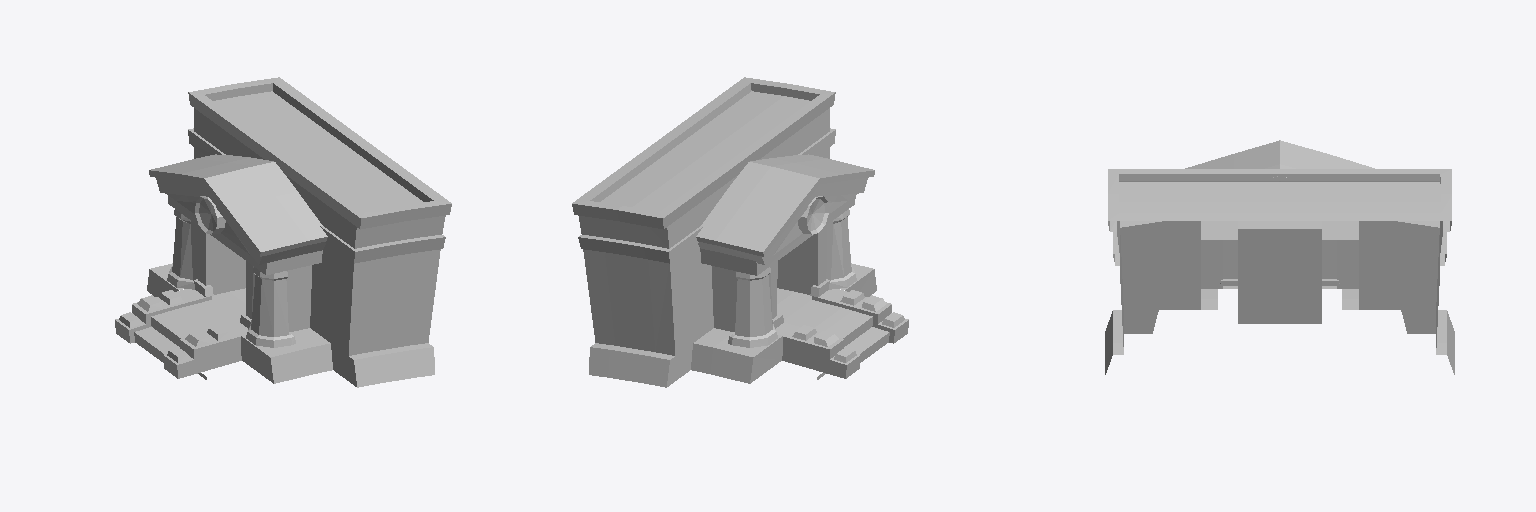
File: musuem.obj
3 renders of one model, left to right at view 1: azimuth 30°, elevation 25°; view 2: azimuth 150°, elevation 25°; view 3: azimuth 270°, elevation 25°, orthographic.
Parts seen in each view (by area): view 1: Object_tex_dobj_museum_main.jpg, Object_tex_dobj_museum_stone.jpg; view 2: Object_tex_dobj_museum_main.jpg, Object_tex_dobj_museum_stone.jpg; view 3: Object_tex_dobj_museum_main.jpg, Object_tex_dobj_museum_stone.jpg.
Boxes of the visible parts, x1,y1,x2,y2 form: Object_tex_dobj_museum_main.jpg: [115, 77, 451, 379]; Object_tex_dobj_museum_stone.jpg: [134, 263, 434, 387]; Object_tex_dobj_museum_main.jpg: [572, 77, 908, 379]; Object_tex_dobj_museum_stone.jpg: [589, 263, 889, 387]; Object_tex_dobj_museum_main.jpg: [1108, 140, 1451, 347]; Object_tex_dobj_museum_stone.jpg: [1105, 289, 1454, 374].
Size of the model in its own units: 1.81 by 1.51 by 2.5.